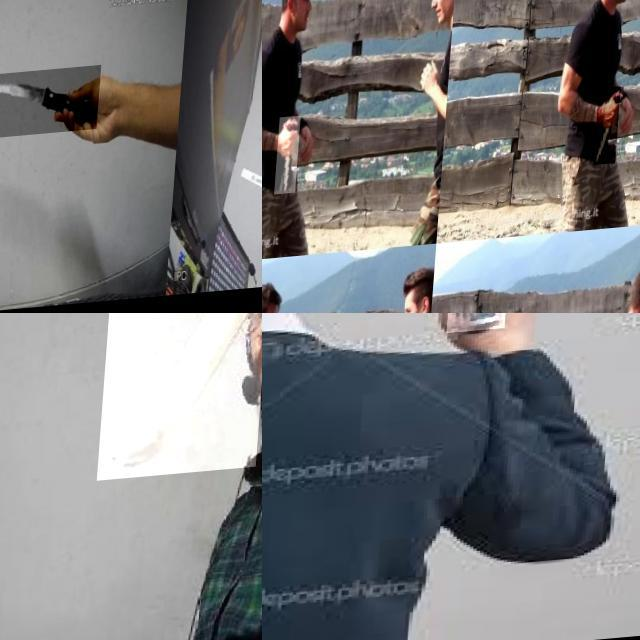-: (104, 313, 262, 485), (0, 69, 108, 141), (0, 0, 113, 59), (278, 119, 304, 198), (598, 95, 624, 174)
gun-knife-thesis - v11 Yolov5 augmented: (451, 313, 518, 391)
